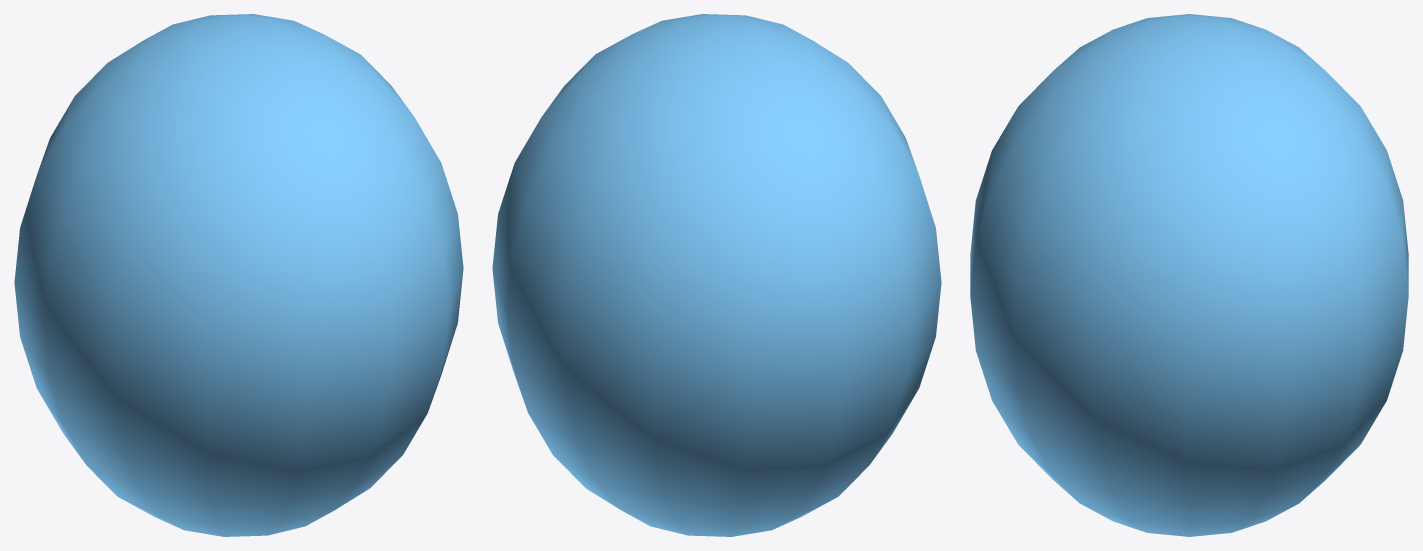
The model's file is Ventanil_stage3.obj.
3 renders of one model, left to right at view 1: azimuth 30°, elevation 25°; view 2: azimuth 150°, elevation 25°; view 3: azimuth 270°, elevation 25°, orthographic.
Size of the model in its own units: 2.6 by 3.12 by 2.53.
